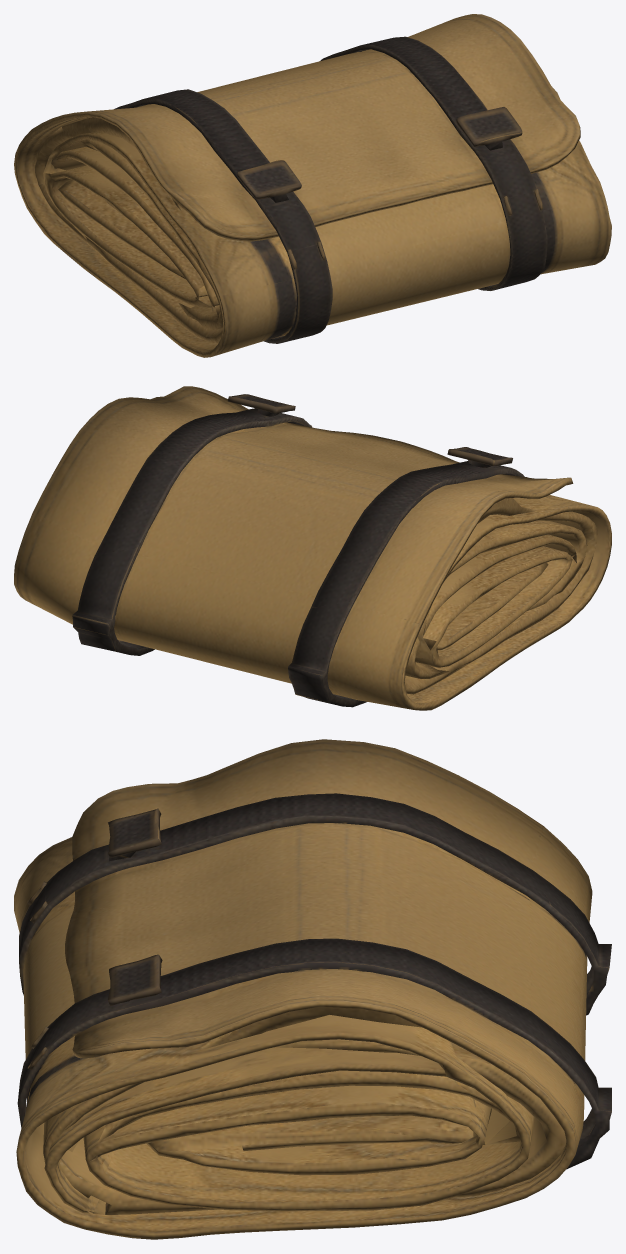
The model's file is source.glb.
3 views of the same model, one above another, from view 1: azimuth 30°, elevation 25°; view 2: azimuth 150°, elevation 25°; view 3: azimuth 270°, elevation 25° (orthographic). The views are drawn at different scales.
Visible parts, largest first — view 1: mesh_node; view 2: mesh_node; view 3: mesh_node.
Boxes of the visible parts, box(x1,y1,x2,y2) form: mesh_node: box(14, 14, 611, 357); mesh_node: box(14, 386, 611, 710); mesh_node: box(14, 739, 611, 1239).
Size of the model in its own units: 1 by 0.4473 by 0.959.
Materials: 1 (1 with a texture image).
